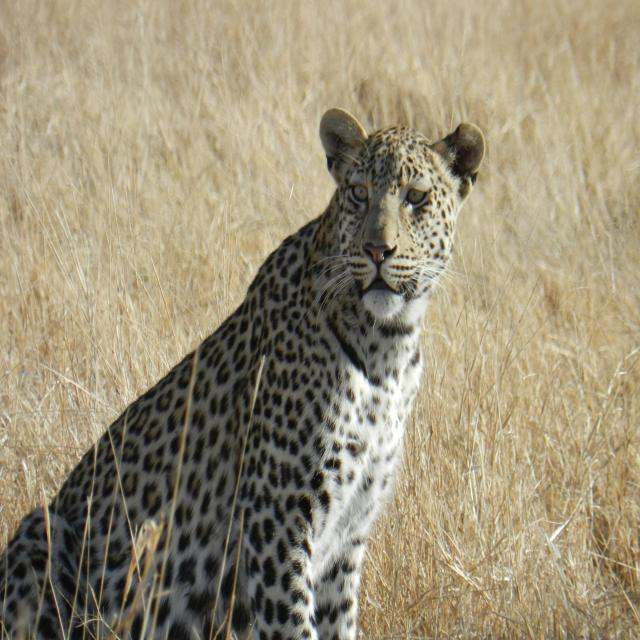Leopard: (0, 85, 517, 640)
